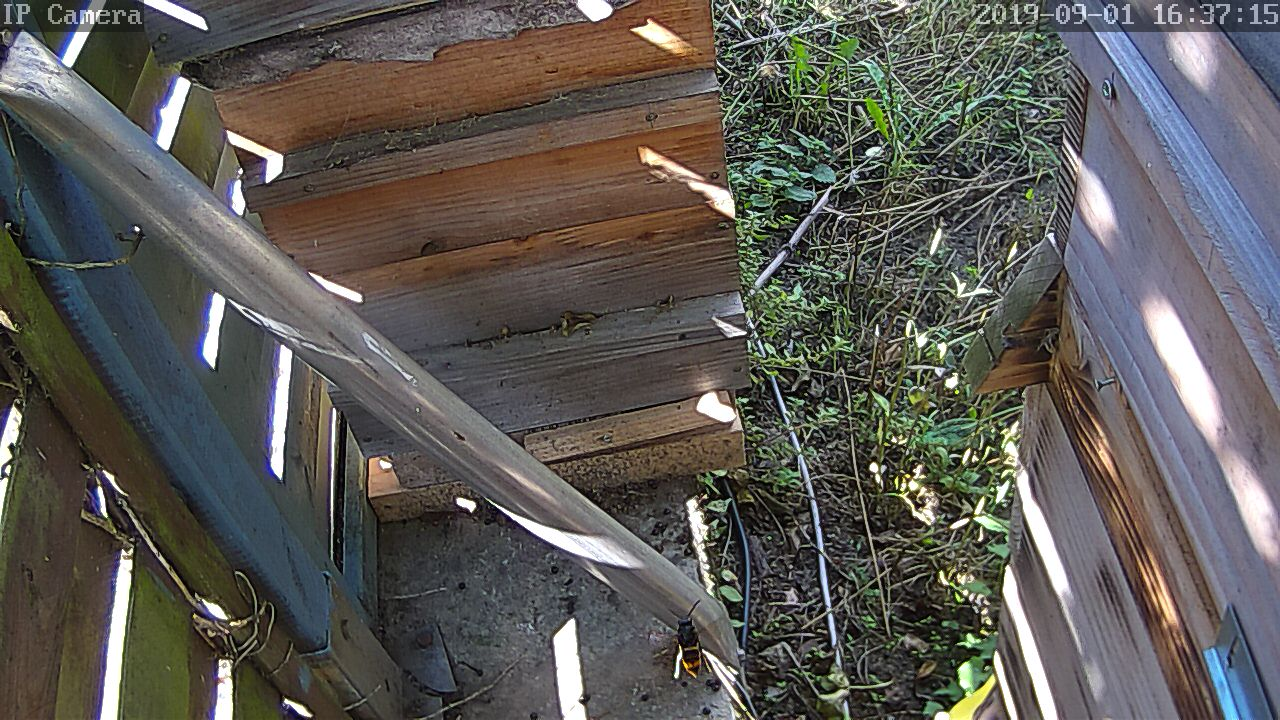hornet: (663, 605, 715, 685)
